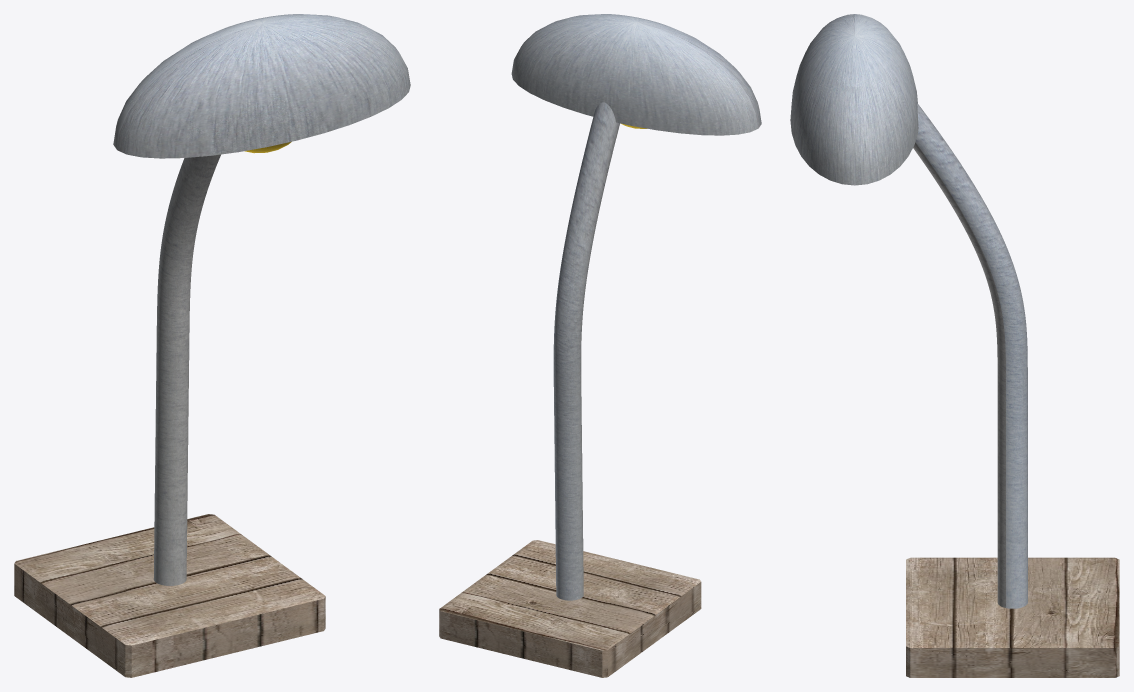
Rendered from Lampara.obj.
3 views of the same model, side by side, from view 1: azimuth 30°, elevation 25°; view 2: azimuth 150°, elevation 25°; view 3: azimuth 270°, elevation 25° (orthographic). The views are drawn at different scales.
Parts seen in each view (by area): view 1: Cube, NurbsPath.001; view 2: Cube, NurbsPath.001; view 3: Cube, NurbsPath.001.
Boxes of the visible parts, x1=… form: Cube: x1=14, y1=14, x2=410, y2=677; NurbsPath.001: x1=153, y1=154, x2=220, y2=585; Cube: x1=439, y1=14, x2=761, y2=677; NurbsPath.001: x1=553, y1=102, x2=619, y2=600; Cube: x1=790, y1=14, x2=1119, y2=677; NurbsPath.001: x1=913, y1=104, x2=1027, y2=608.
Size of the model in its own units: 2.89 by 6.2 by 3.08.
4 materials, 4 textured.
